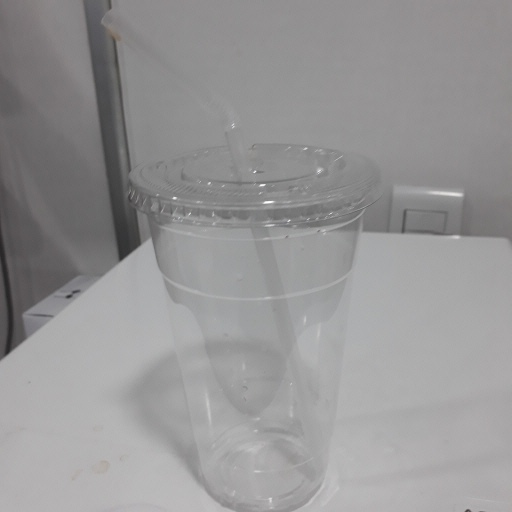Plastic_2: (115, 10, 378, 509)
